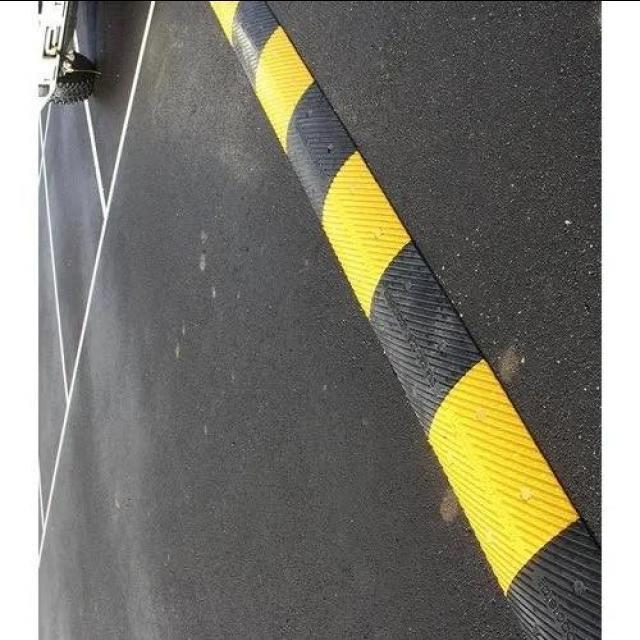speedbreaker: (200, 0, 598, 640)
